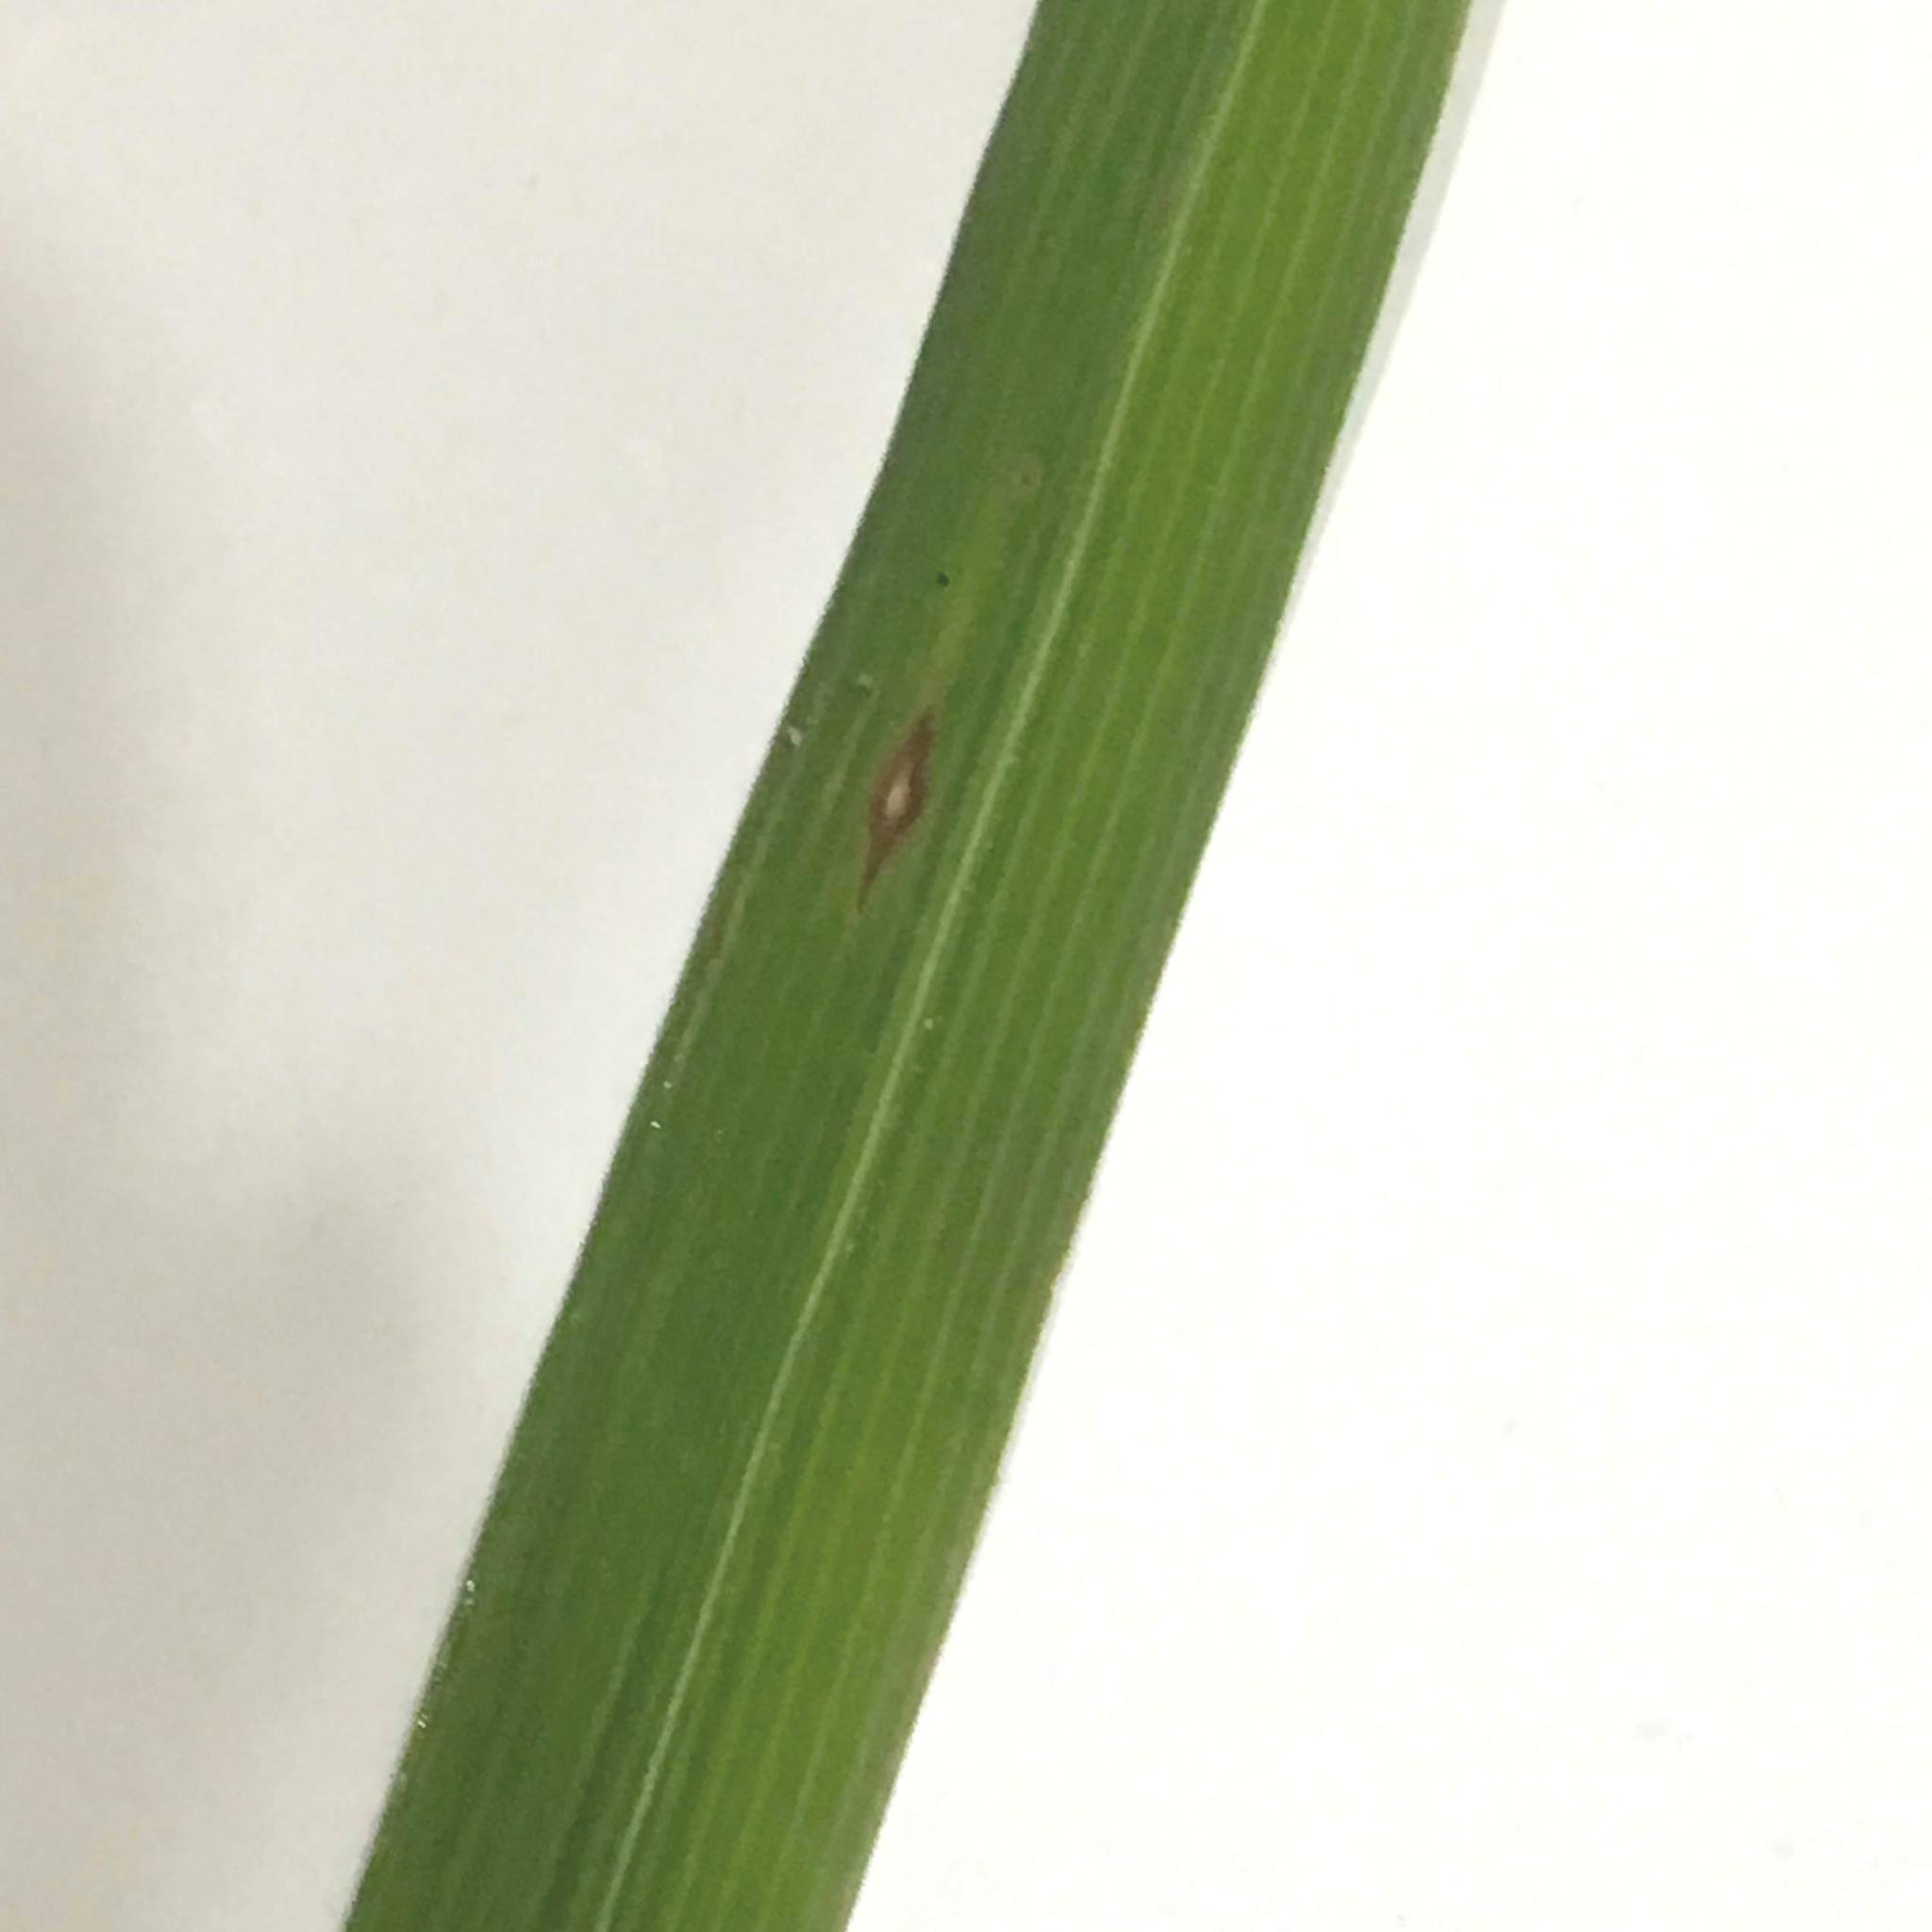1 RiceBlast: (837, 591, 959, 936)
